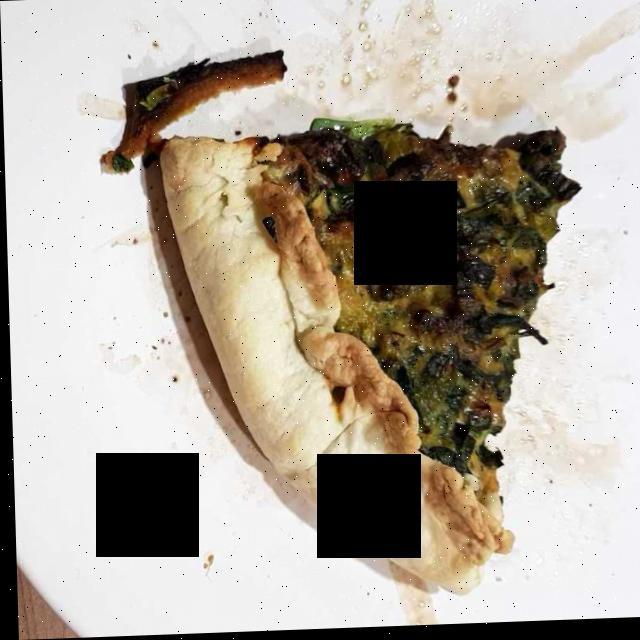pizza: (150, 119, 562, 588)
